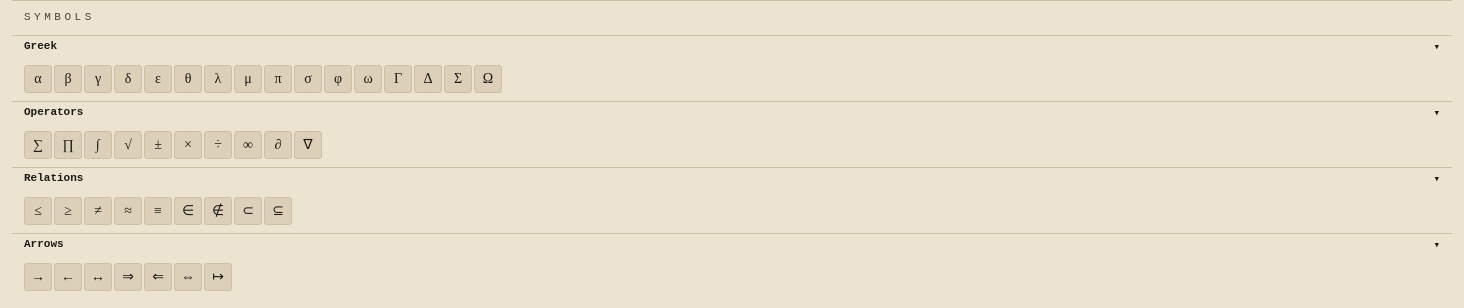
Test: SymbolPalette › collapses a group on header click and hides its symbols
// Greek starts open — click to close.
Click the button "Greek ▾" at x=41, y=46, box left=12, top=36, right=1452, bottom=57
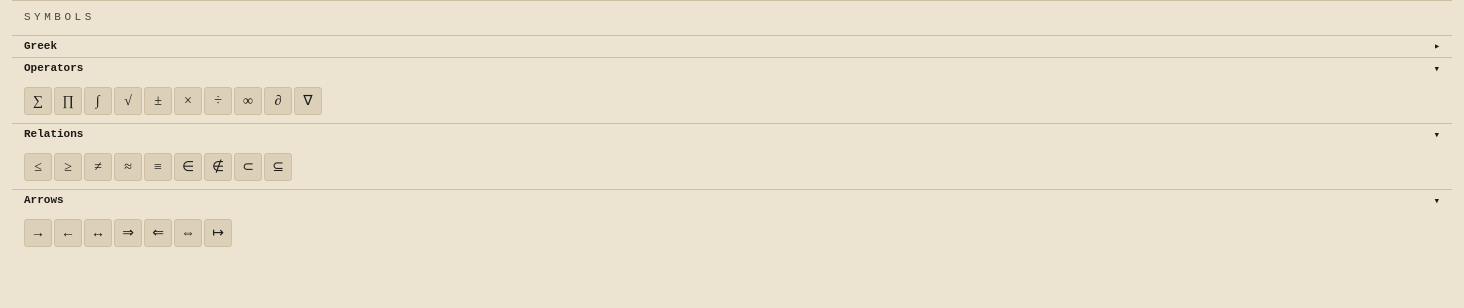
Expected: the button titled "\\alpha" is gone
